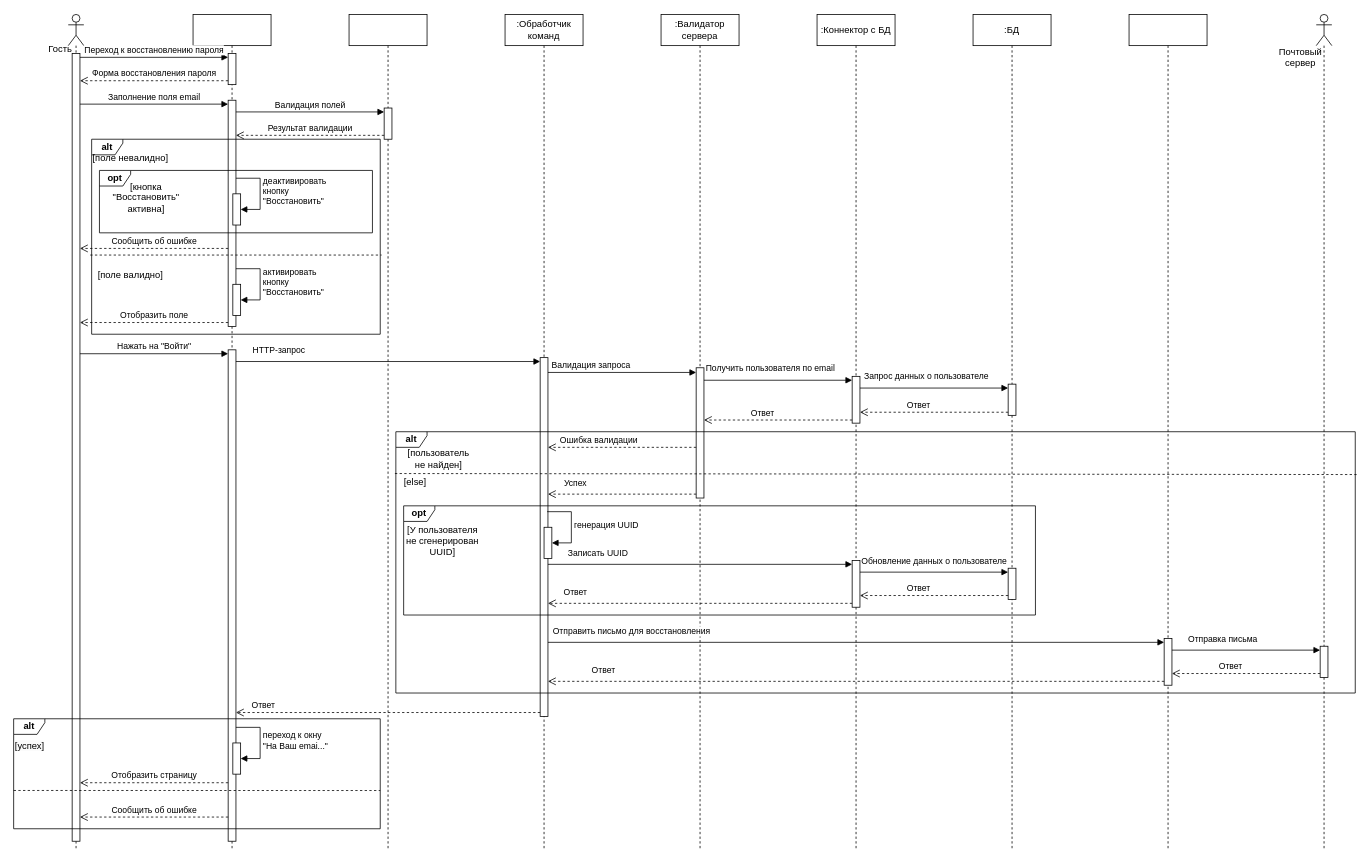
The diagram is 1372 pixels wide and 863 high, and some of its shapes have lost their labels. Here are the shapes that lost their labels. From the top down, the box of each, then its label:
(192, 14, 271, 849): :GUI
(348, 14, 427, 849): :Валидатор GUI
(1128, 14, 1207, 849): :Коннектор с почтовым сервером
